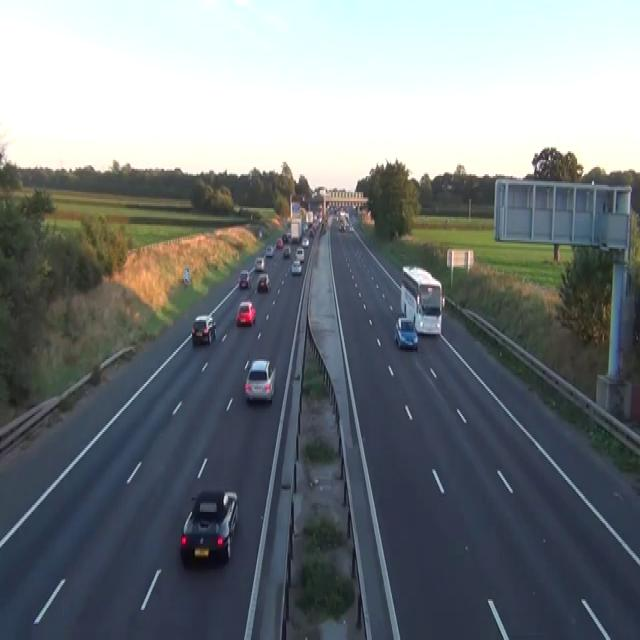Car: (179, 489, 238, 565), (244, 357, 276, 402), (394, 316, 418, 351), (191, 315, 216, 345), (235, 300, 255, 326), (257, 272, 270, 292), (238, 268, 250, 288), (254, 256, 264, 270), (291, 260, 301, 274), (295, 247, 304, 261), (183, 266, 190, 284), (265, 244, 274, 256), (283, 245, 291, 258), (276, 236, 283, 249), (301, 237, 309, 247), (338, 221, 345, 231), (302, 222, 308, 233), (339, 210, 348, 217), (321, 222, 326, 233), (286, 229, 291, 240), (282, 233, 288, 242), (308, 228, 314, 236), (348, 224, 354, 231), (258, 230, 262, 238)
Truck: (400, 263, 443, 336), (290, 217, 302, 242)
